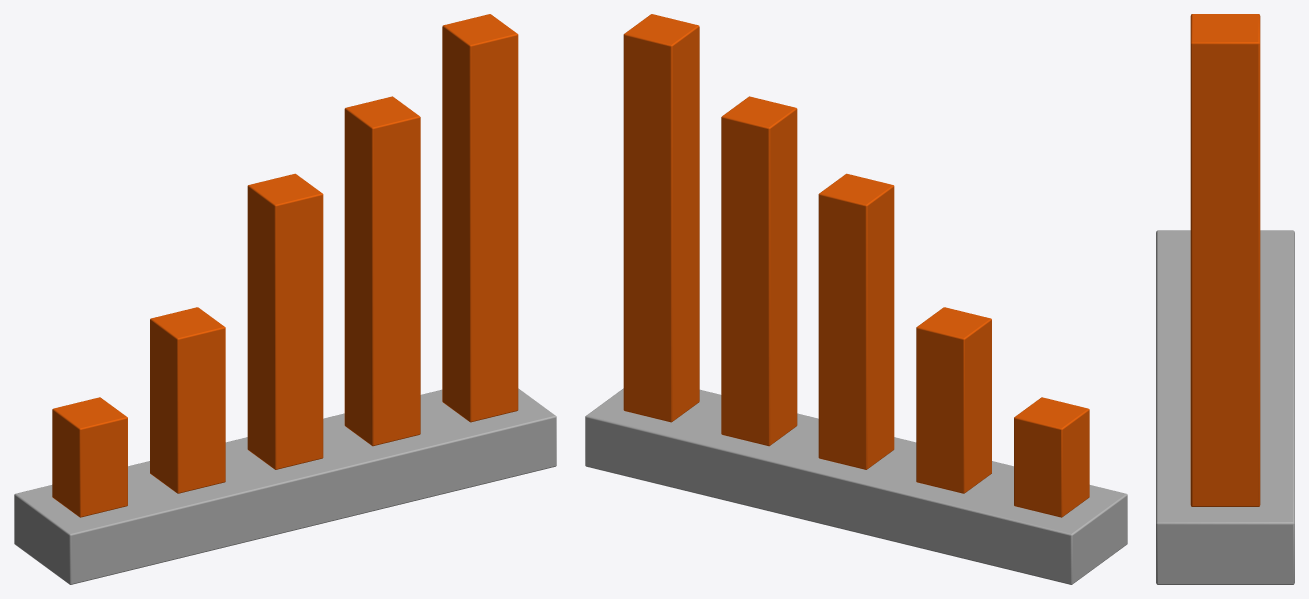
3 views of the same model, side by side, from view 1: azimuth 30°, elevation 25°; view 2: azimuth 150°, elevation 25°; view 3: azimuth 270°, elevation 25° (orthographic). The views are drawn at different scales.
Visible parts, largest first — view 1: Cube_5, Cube_4, Cube_3, Cube_2, Cube_1, Cube; view 2: Cube_5, Cube_4, Cube_3, Cube_2, Cube_1, Cube; view 3: Cube_4, Cube_5.
Boxes of the visible parts, box(x1,y1,x2,y2) form: Cube_5: box(14, 388, 556, 584); Cube_4: box(442, 14, 518, 422); Cube_3: box(344, 96, 420, 446); Cube_2: box(247, 173, 323, 469); Cube_1: box(150, 307, 225, 493); Cube: box(52, 397, 127, 517); Cube_5: box(585, 388, 1127, 584); Cube_4: box(623, 14, 699, 422); Cube_3: box(721, 96, 797, 446); Cube_2: box(818, 173, 894, 469); Cube_1: box(916, 307, 991, 493); Cube: box(1014, 397, 1089, 517); Cube_4: box(1190, 14, 1260, 506); Cube_5: box(1156, 230, 1294, 584).
Size of the model in its own units: 2000 by 1681 by 400.
